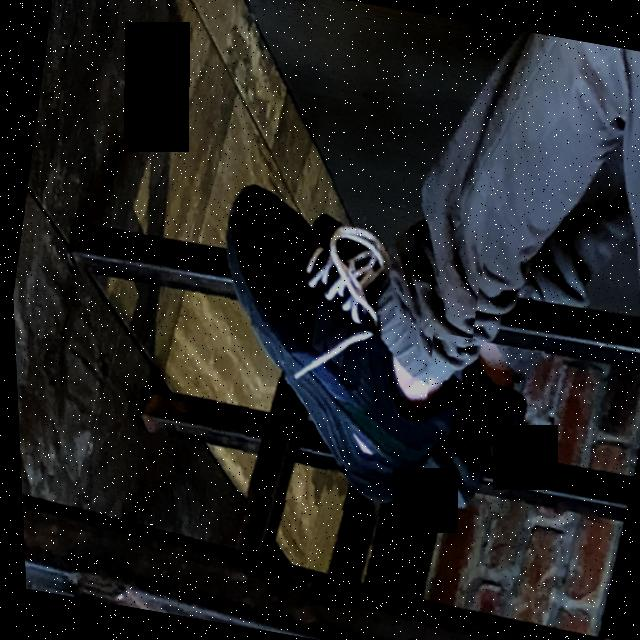shoe: (173, 162, 499, 528), (400, 331, 547, 524)
